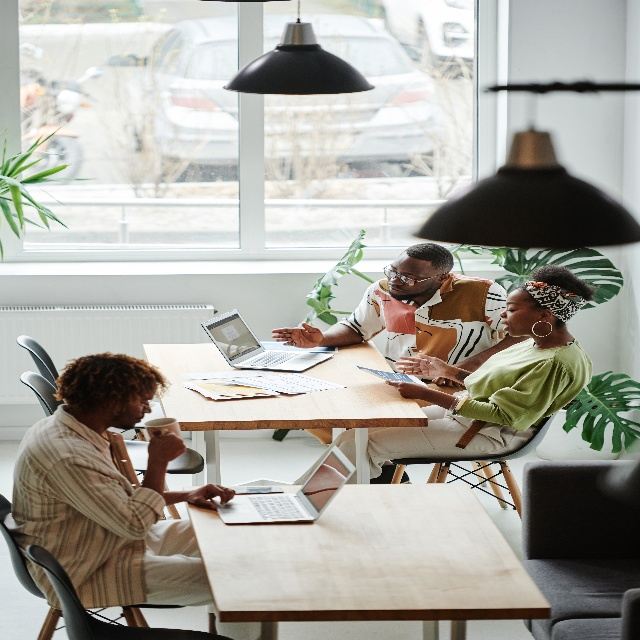Gafas: (382, 262, 448, 287), (124, 396, 155, 409)
Sin_guantes: (269, 319, 324, 351), (187, 476, 236, 510), (393, 350, 445, 377), (147, 430, 185, 462), (384, 377, 415, 399)
